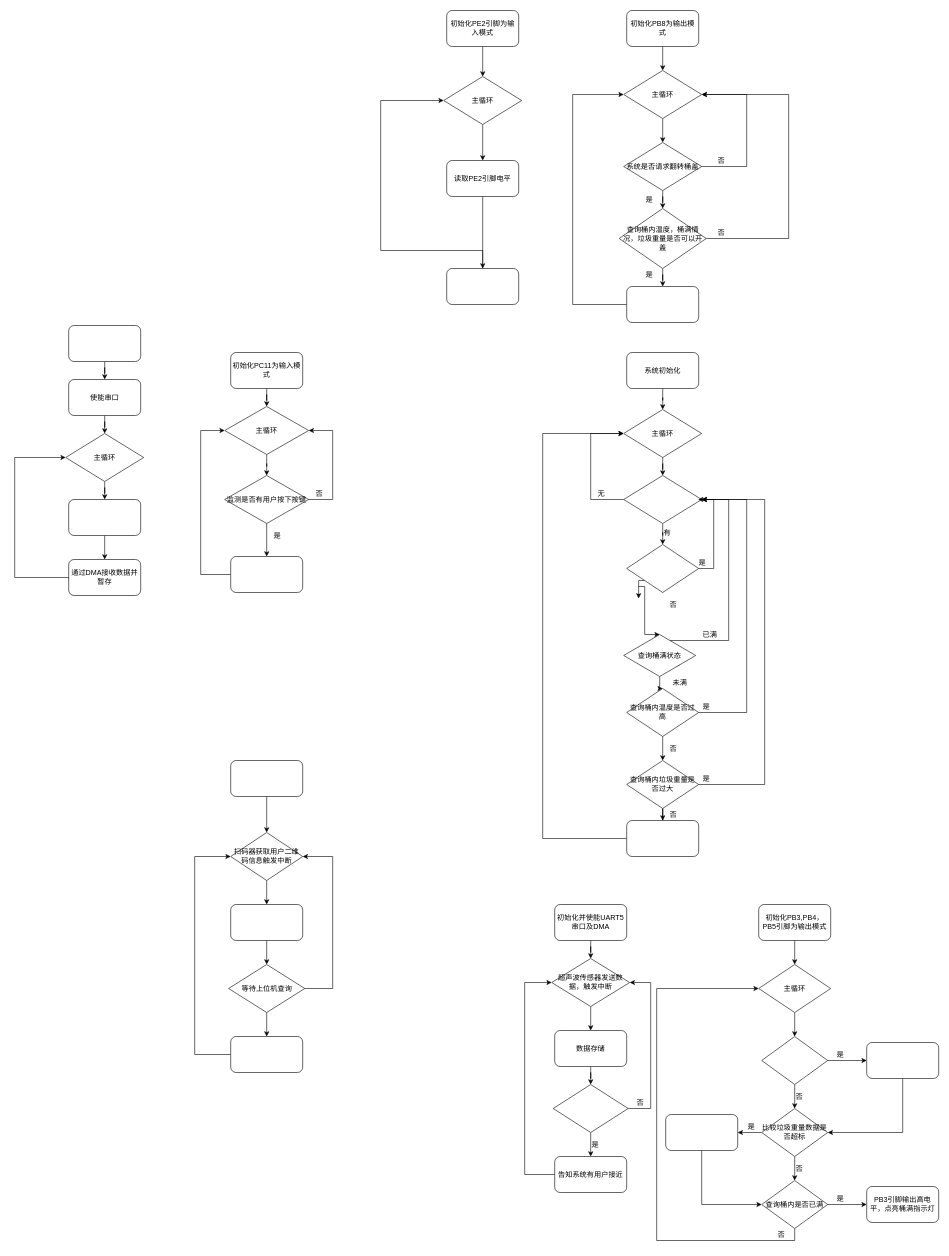
The diagram is 949 pixels wide and 1256 high, and some of its shapes have lost their labels. The centre of each missing label's shape, as x and y in pixels:
"PB4引脚输出高电平，点亮超重指示灯" belongs at (701,1132).
"PB5引脚输出高电平，点亮温度过高指示灯" belongs at (902,1060).
"上位机得到信息进行验证和其他应用" belongs at (266,1054).
"初始化串口" belongs at (104,343).
"初始化和使能USART6及DMA" belongs at (266,778).
"判断数据是否小于阈值" belongs at (590,1108).
"发送开盖请求" belongs at (662,838).
"告知系统用户按键操作" belongs at (266,574).
"将引脚电平数值存储在协议栈中" belongs at (482,286).
"查询桶盖是否已开启" belongs at (662,568).
"比较温度数据是否超标" belongs at (794,1060).
"用户二维码信息存储到内存并将时效性数据位置为1" belongs at (266,922).
"监测用户有无操作" belongs at (662,499).
"翻转PB8电平" belongs at (662,304).
"通过DMA发送指令查询数据" belongs at (104,517).
